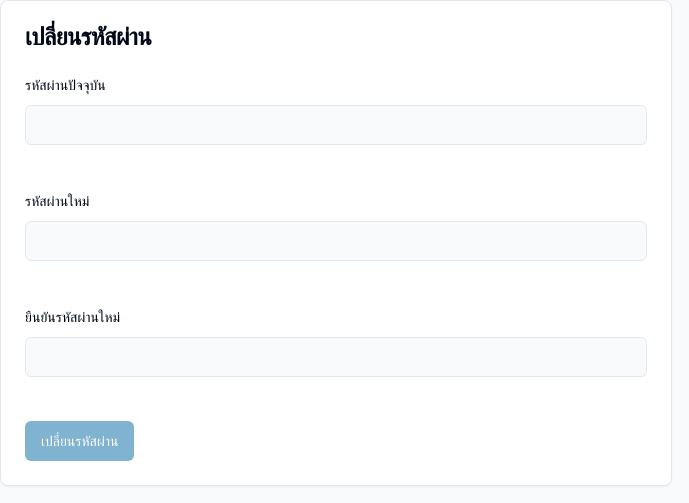
Test case: SecurityPage › keeps Change Password disabled until every field is valid (round 2 UX)
The image size is (689, 503).
Check: the button "เปลี่ยนรหัสผ่าน" is disabled, box x1=25 y1=421 x2=134 y2=461
Type "oldpass12" into the password field labelled "รหัสผ่านปัจจุบัน" at (336, 125), box x1=25 y1=105 x2=647 y2=145
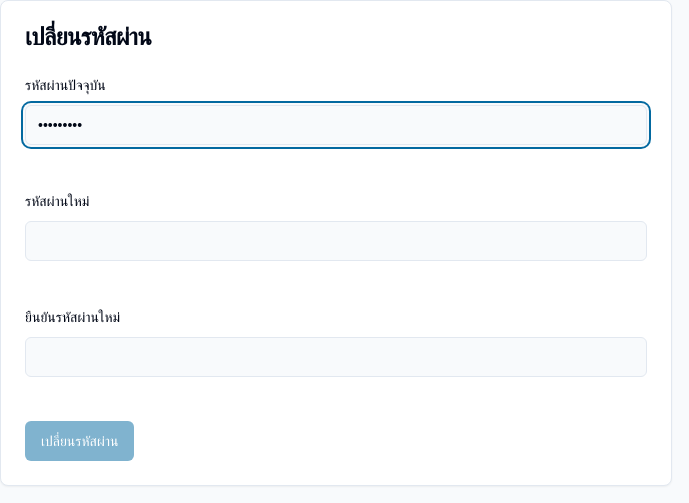
Type "newpass123" into the password field labelled "รหัสผ่านใหม่" at (336, 241), box x1=25 y1=221 x2=647 y2=261
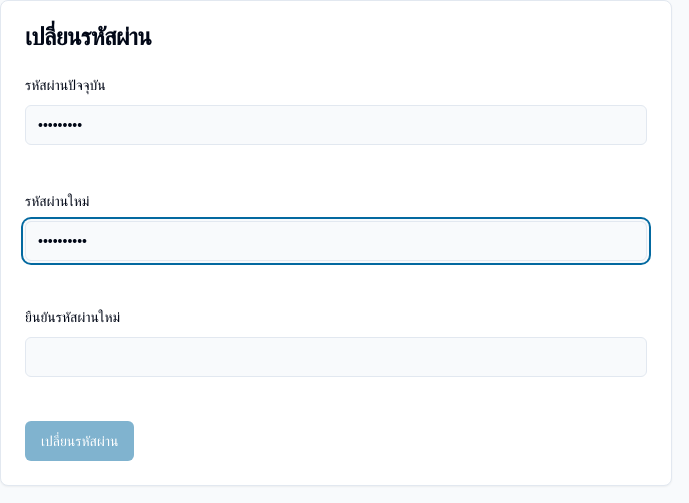
Type "newpass123" into the password field labelled "ยืนยันรหัสผ่านใหม่" at (336, 357), box x1=25 y1=337 x2=647 y2=377
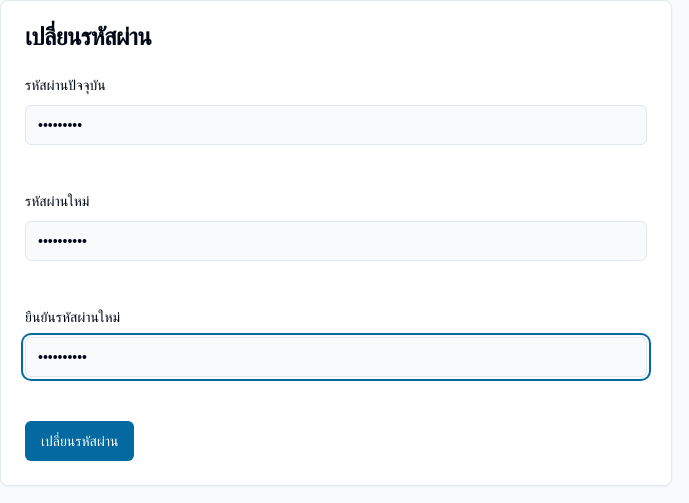
Check: the button "เปลี่ยนรหัสผ่าน" is enabled, box x1=25 y1=421 x2=134 y2=461
